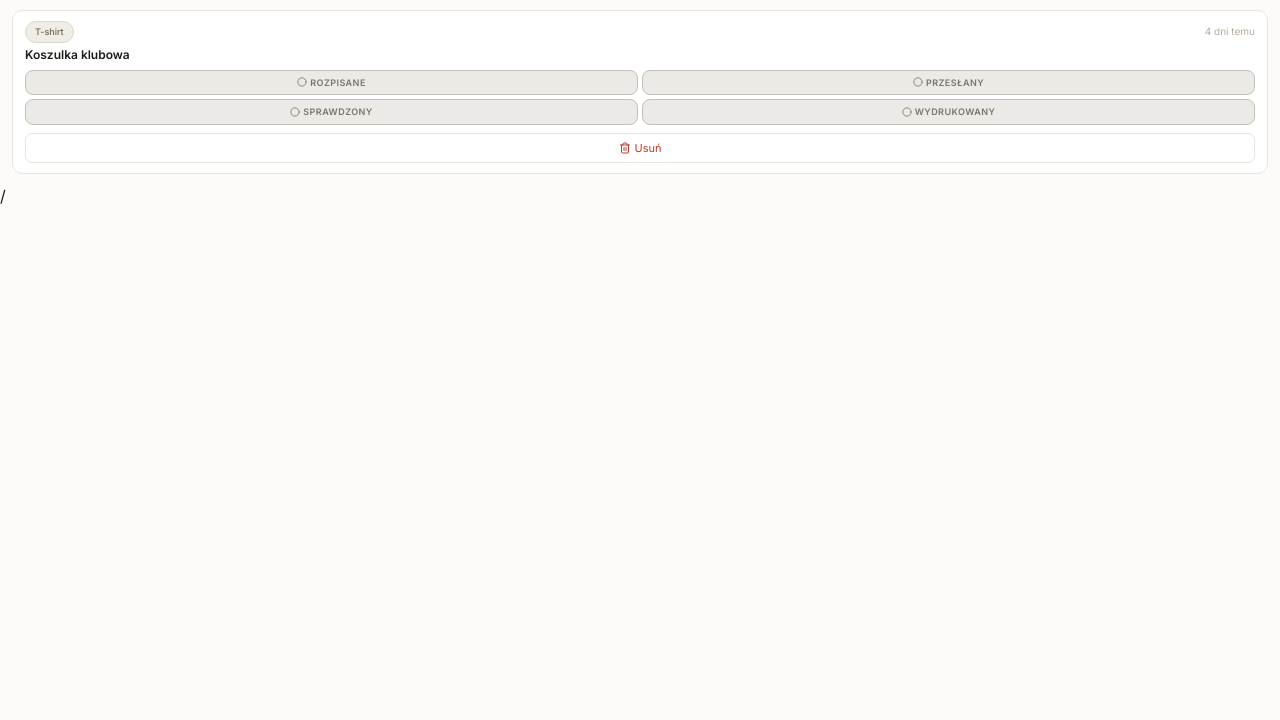
Test: ProjektKarty › klik flagi NIE wysyła mutacji od razu — otwiera ConfirmSheet z podglądem stanu po zmianie
The image size is (1280, 720).
Click the button "ROZPISANE" at (332, 82), box [25,70,638,95]
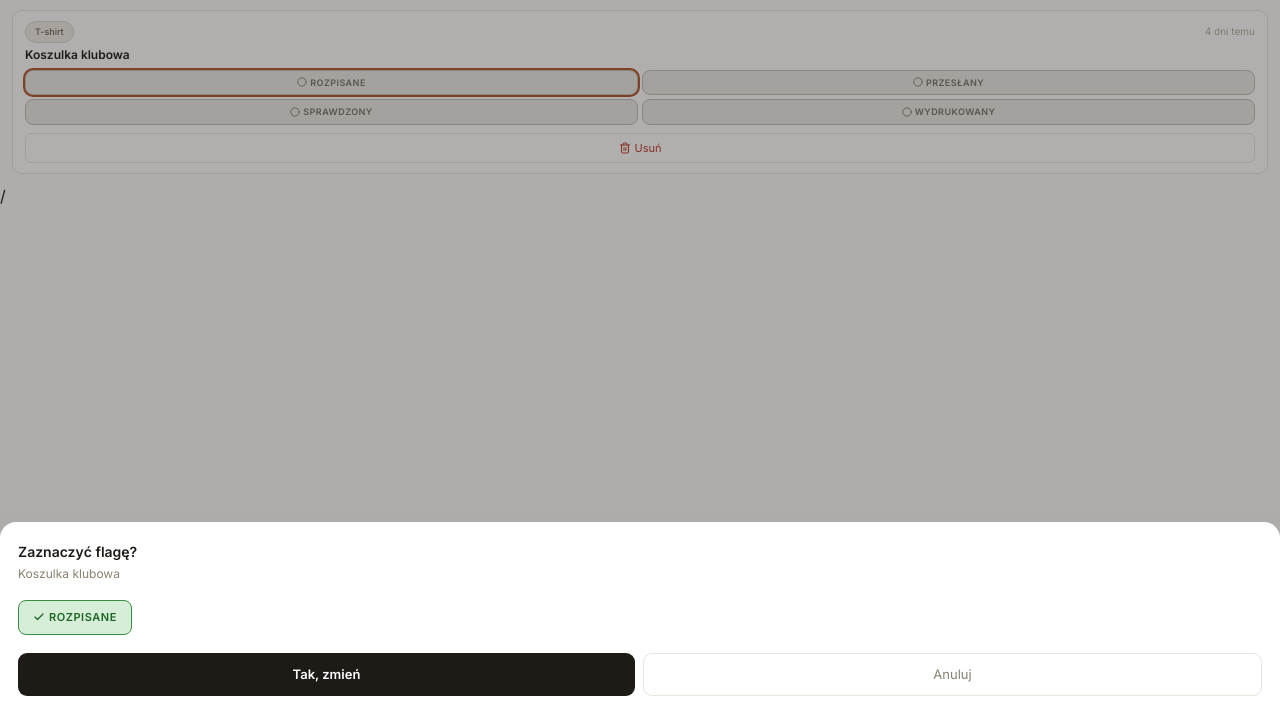
Now the text "Koszulka klubowa" is shown, box [18,566,120,581]
